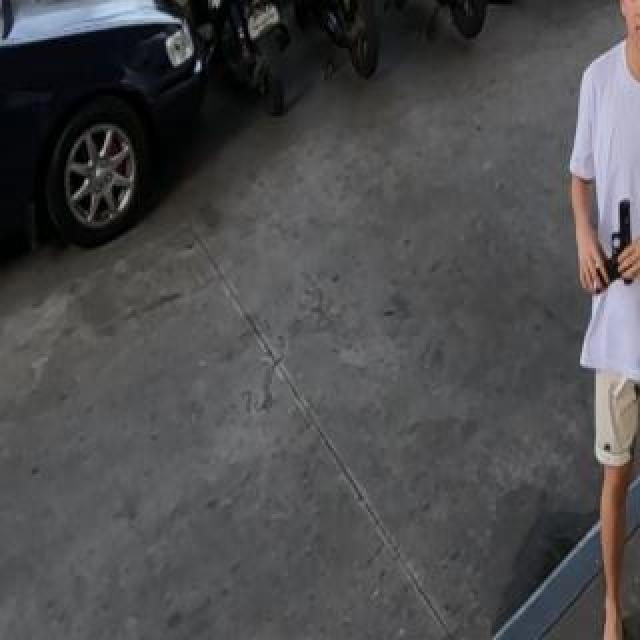Guns: (590, 198, 636, 294)
